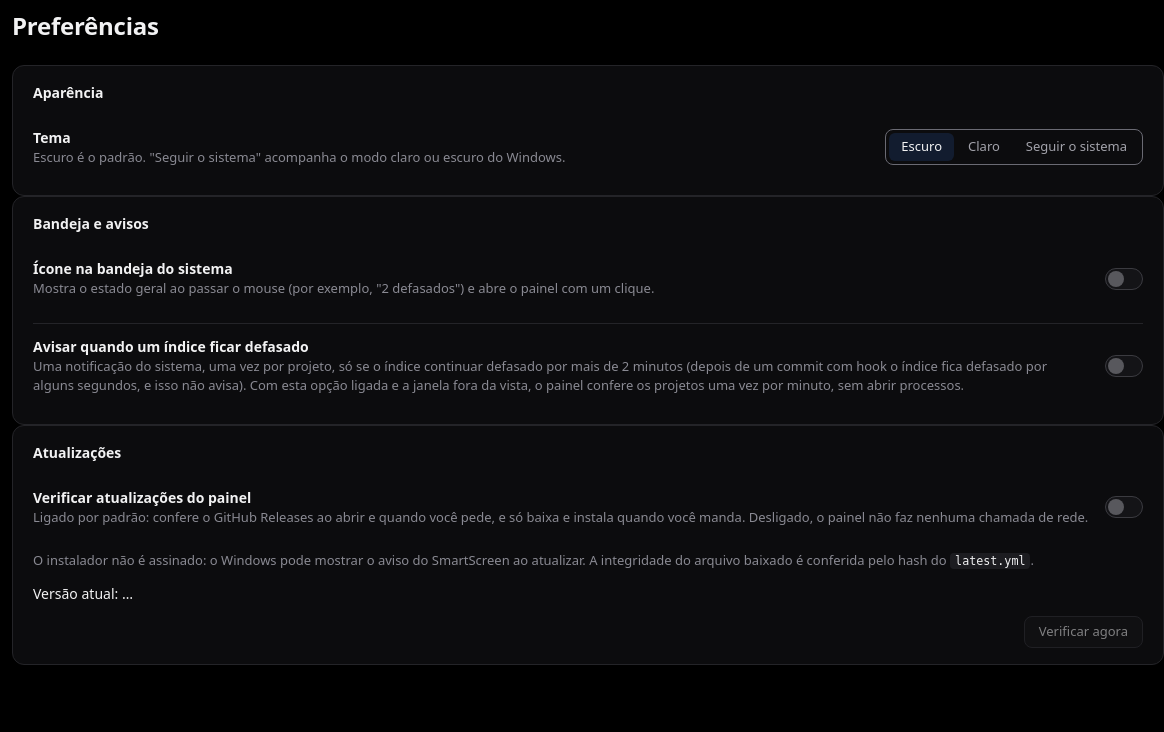
Test: PreferencesPage: Tema (RAGX-0193) › falha ao gravar volta ao tema anterior e avisa
This screenshot has width=1164, height=732.
Step 1. Click the radio button labelled "Claro" → (984, 147), box 956,133 -> 1012,161
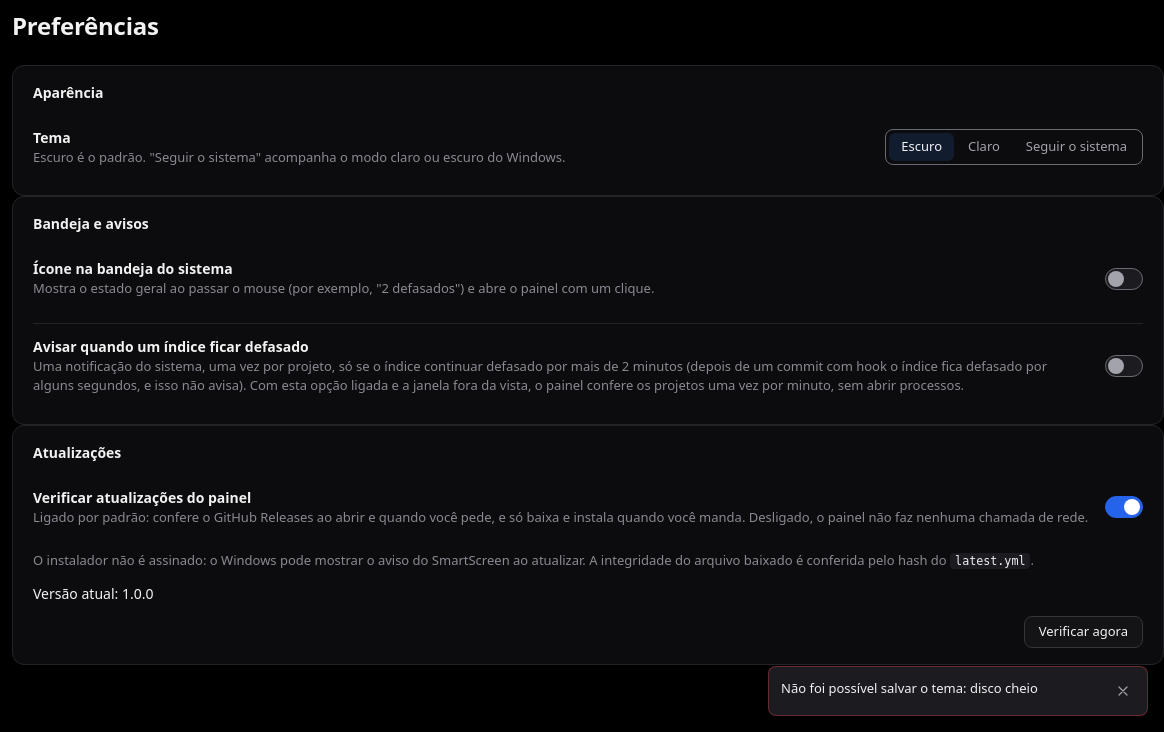
Now the text "Não foi possível salvar o tema: disco cheio" is shown, box 781,679 -> 1038,697
